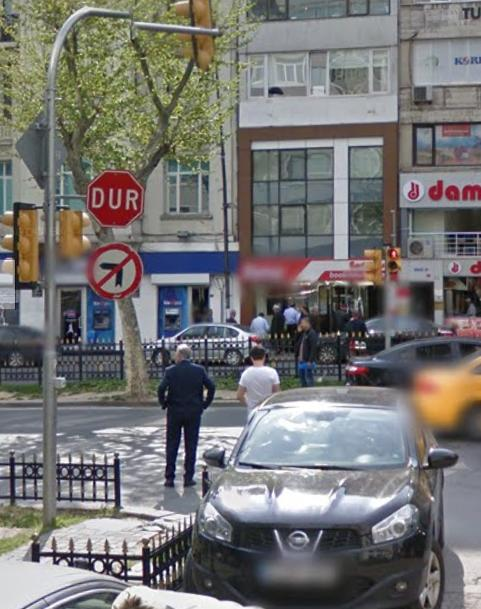leftturnsareforbidden: (86, 243, 139, 295)
stop: (88, 170, 142, 225)
